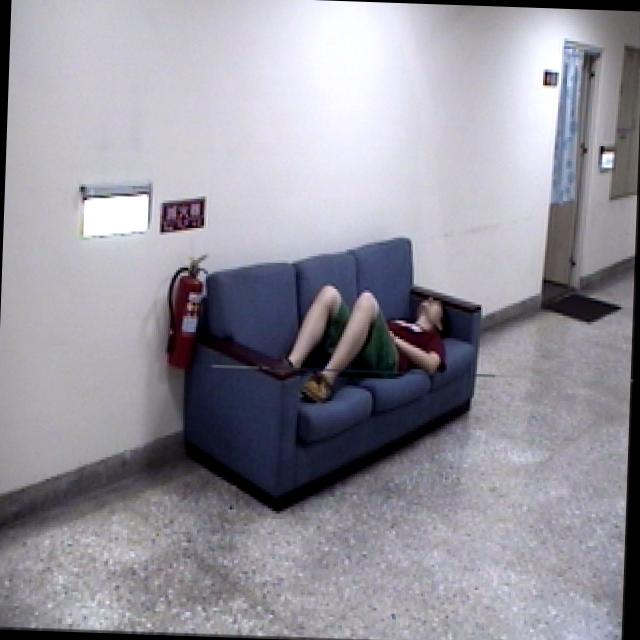lie: (260, 277, 452, 410)
